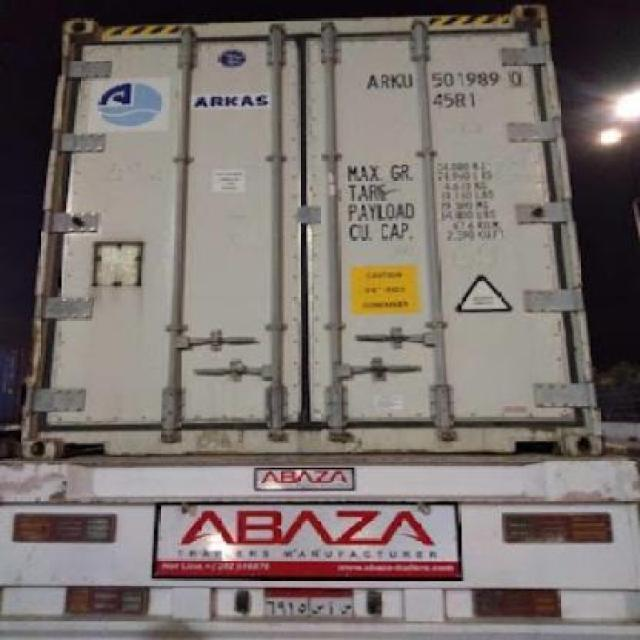ISO: (430, 91, 480, 105)
container_number: (369, 68, 522, 90)
